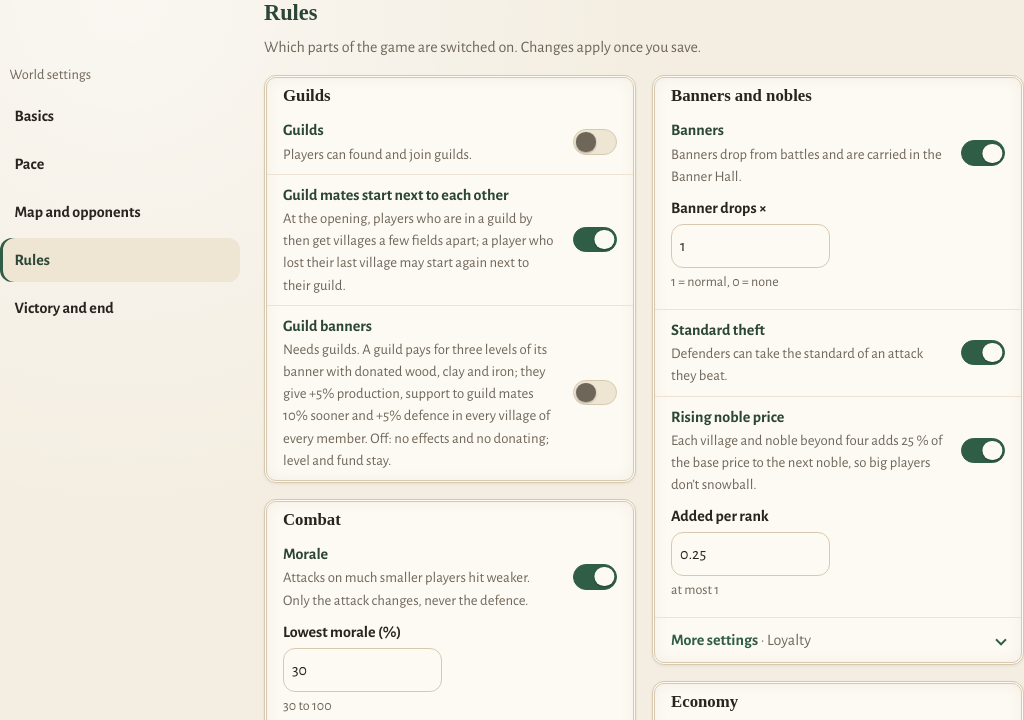
Test case: WorldTab: one save bar for every section (1.6) › names the changes by section and row, marks the section, and discards them
Click the switch labelled "Morale": (595, 577) x1=573 y1=564 x2=617 y2=590
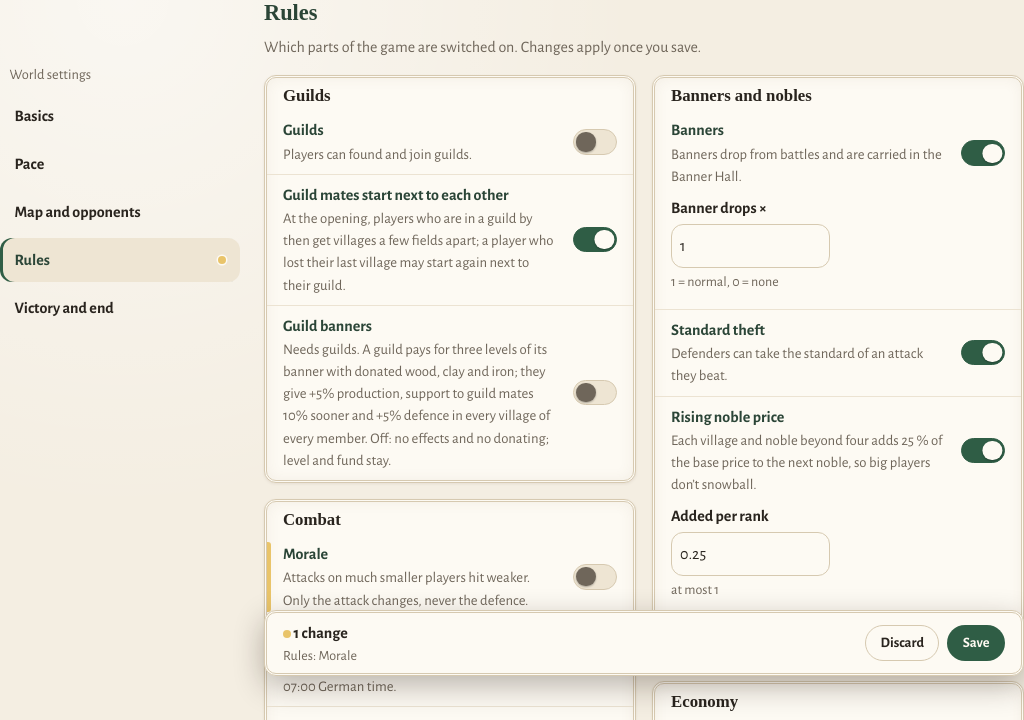
Click the switch labelled "Standard theft": (983, 353) x1=961 y1=340 x2=1005 y2=366
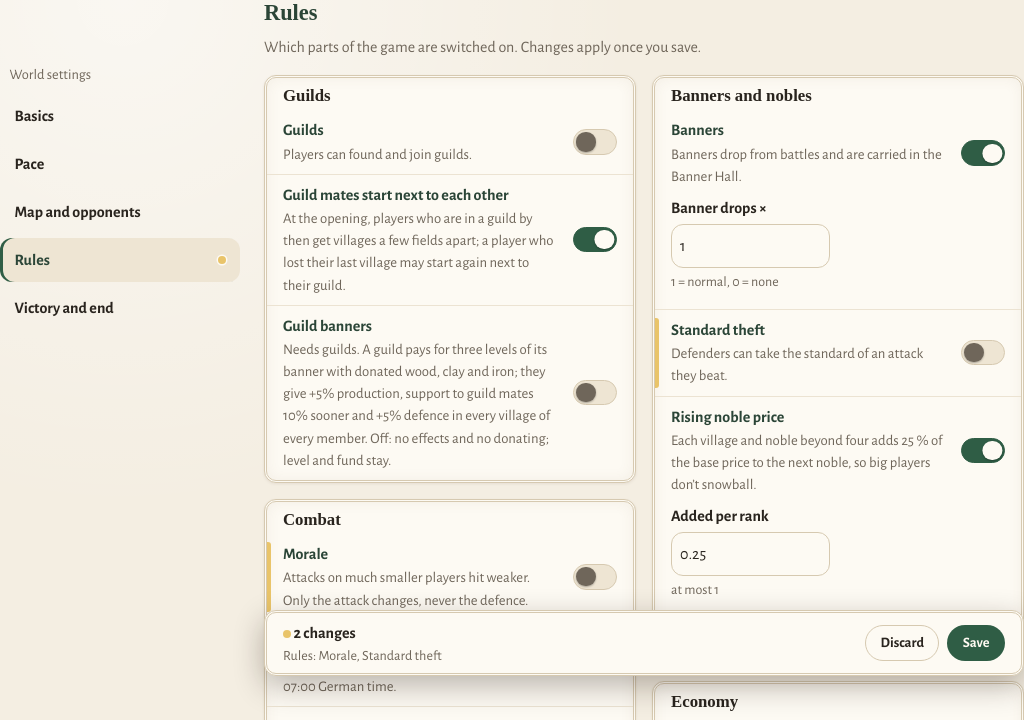
Result: the element "2 changes Rules: Morale, Standard theft Discard Save" is shown at x1=264 y1=610 x2=1023 y2=676
Note: switching sections keeps the draft
Click the button "Basics": (120, 116) x1=0 y1=94 x2=240 y2=138
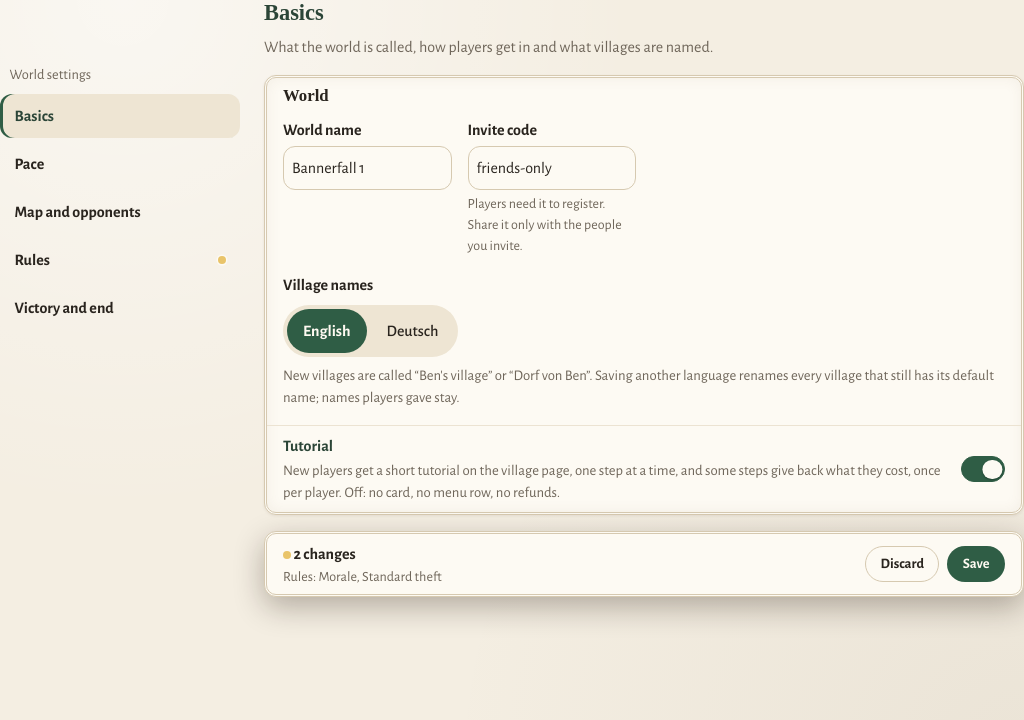
Result: the element "2 changes Rules: Morale, Standard theft Discard Save" is shown at x1=264 y1=531 x2=1023 y2=597
Click the button "Discard": (902, 564) x1=865 y1=546 x2=939 y2=582
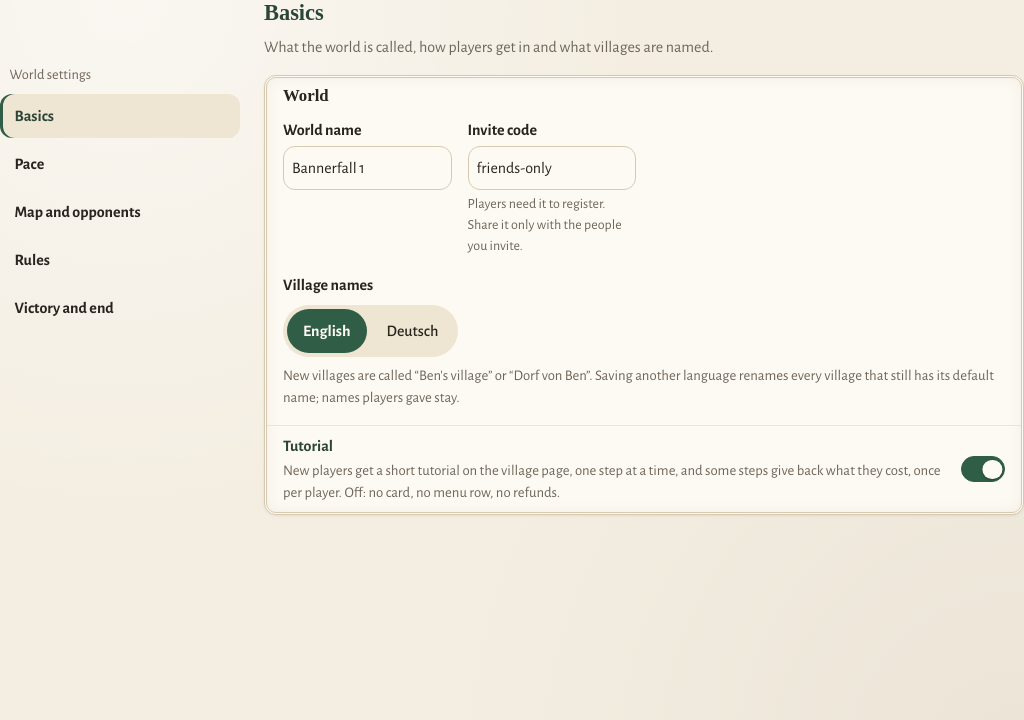
Result: the element "change" is gone
